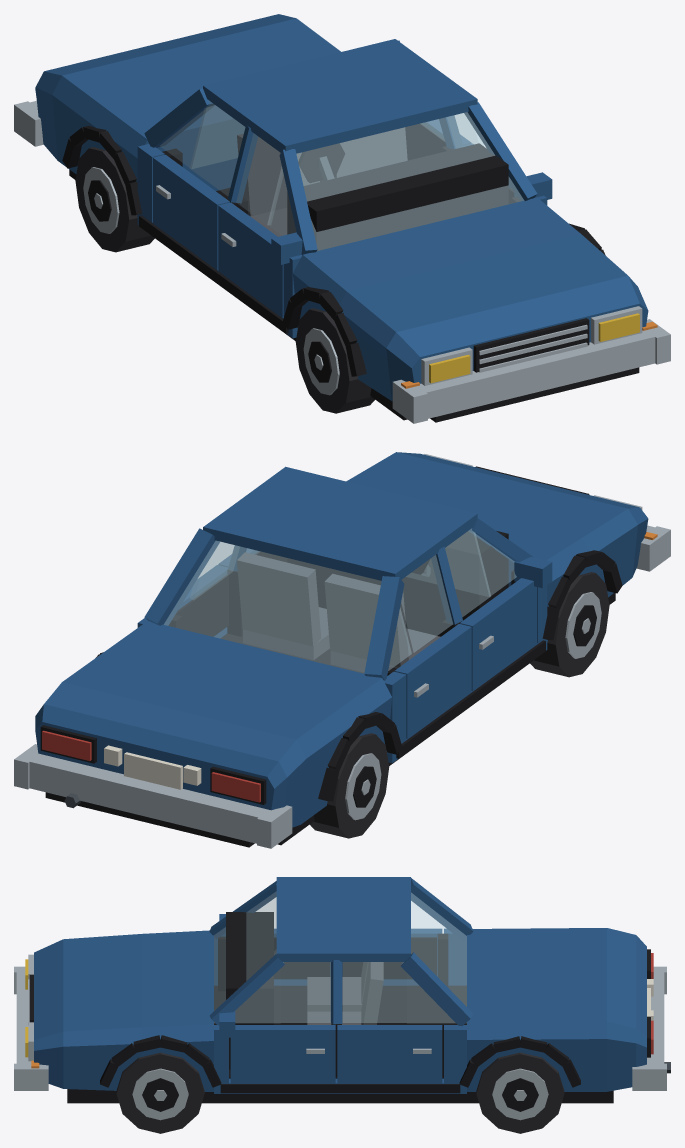
File: GV_Sedan_01.glb
The picture shows the model from 3 angles, top to bottom: view 1: azimuth 30°, elevation 25°; view 2: azimuth 150°, elevation 25°; view 3: azimuth 270°, elevation 25°; orthographic projection. The views are drawn at different scales.
Visible parts, largest first — view 1: GV_Sedan_01, Hood, Trunk, Door_RR, Door_FR, Wheel_FR, Wheel_RR, Door_FL, Door_RL; view 2: GV_Sedan_01, Trunk, Hood, Door_RR, Door_FR, Wheel_RR, Wheel_FR, Door_RL; view 3: GV_Sedan_01, Hood, Trunk, Door_RL, Door_FL, Wheel_RL, Wheel_FL, Door_RR, Door_FR.
Part boxes in pixels (box(x1,y1,x2,y2)): GV_Sedan_01: box(14, 14, 670, 423); Hood: box(293, 197, 627, 358); Trunk: box(52, 18, 340, 165); Door_RR: box(153, 101, 245, 269); Door_FR: box(218, 133, 302, 317); Wheel_FR: box(295, 308, 374, 413); Wheel_RR: box(75, 147, 154, 252); Door_FL: box(447, 113, 552, 204); Door_RL: box(405, 119, 471, 160); GV_Sedan_01: box(14, 452, 670, 848); Trunk: box(62, 621, 391, 766); Hood: box(346, 452, 637, 592); Door_RR: box(394, 555, 471, 738); Door_FR: box(445, 528, 552, 690); Wheel_RR: box(310, 733, 389, 838); Wheel_FR: box(530, 572, 609, 677); Door_RL: box(175, 542, 239, 638); GV_Sedan_01: box(14, 877, 670, 1103); Hood: box(63, 930, 213, 1055); Trunk: box(467, 928, 606, 1046); Door_RL: box(337, 962, 442, 1083); Door_FL: box(219, 962, 335, 1083); Wheel_RL: box(476, 1052, 564, 1133); Wheel_FL: box(116, 1052, 204, 1133); Door_RR: box(342, 928, 442, 985); Door_FR: box(219, 914, 330, 985).
Bounding box in the file's own units: 1.92 × 1.38 × 4.93.
2 materials, 2 textured.
